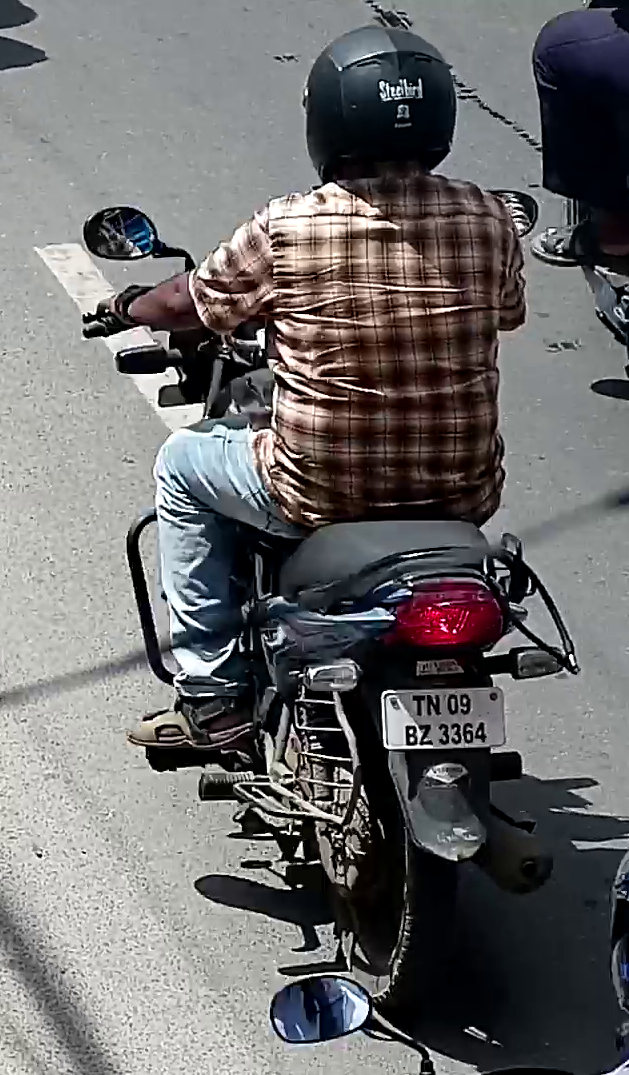0: (447, 693, 459, 715)
3: (437, 723, 450, 745), (450, 722, 462, 745)
4: (474, 721, 488, 744)
6: (462, 722, 474, 744)
9: (459, 693, 472, 716)
B: (404, 725, 418, 747)
N: (426, 694, 441, 716)
P16: (380, 686, 507, 751)
T: (412, 694, 426, 716)
Z: (418, 724, 433, 746)
